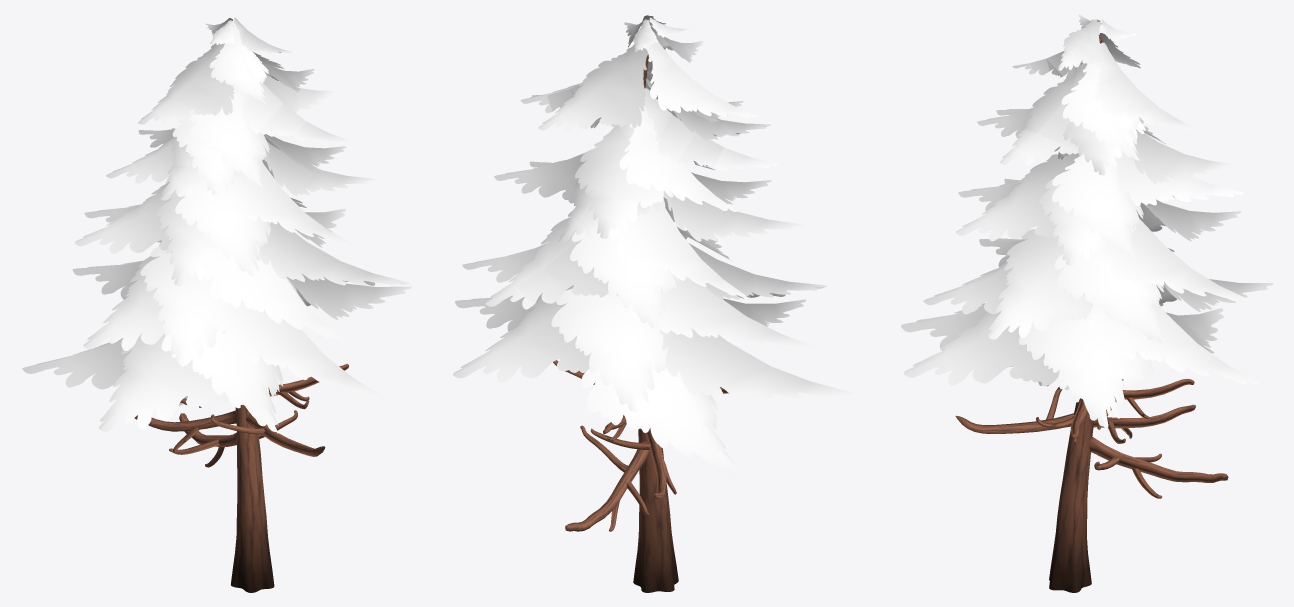
File: Pine_1.gltf
3 views of the same model, side by side, from view 1: azimuth 30°, elevation 25°; view 2: azimuth 150°, elevation 25°; view 3: azimuth 270°, elevation 25° (orthographic). The views are drawn at different scales.
Visible parts, largest first — view 1: Pine_1; view 2: Pine_1; view 3: Pine_1.
Part boxes in pixels (x1,y1,x2,y2): Pine_1: [22, 18, 411, 592]; Pine_1: [453, 15, 856, 592]; Pine_1: [901, 14, 1273, 592].
Bounding box in the file's own units: 4.94 × 7.32 × 4.54.
Materials: 2 (2 with a texture image).
